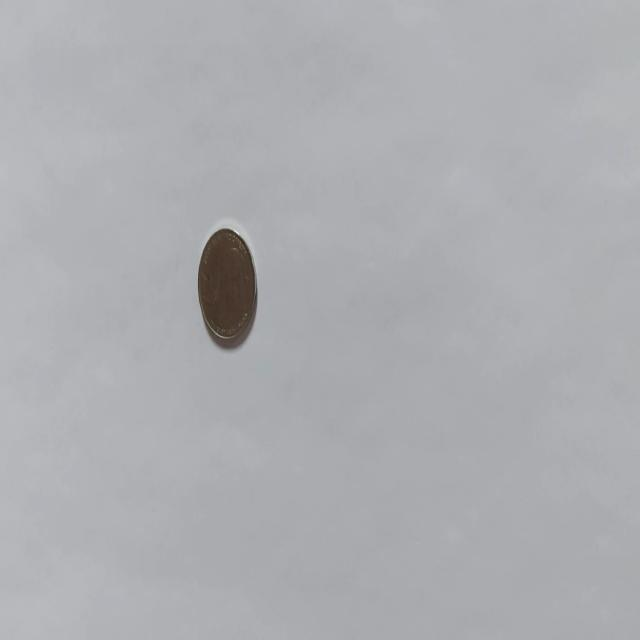seribu rupiah koin: (196, 224, 258, 347)
